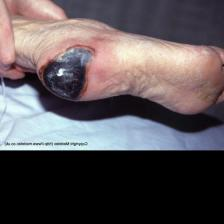Wound: (37, 38, 98, 102)
